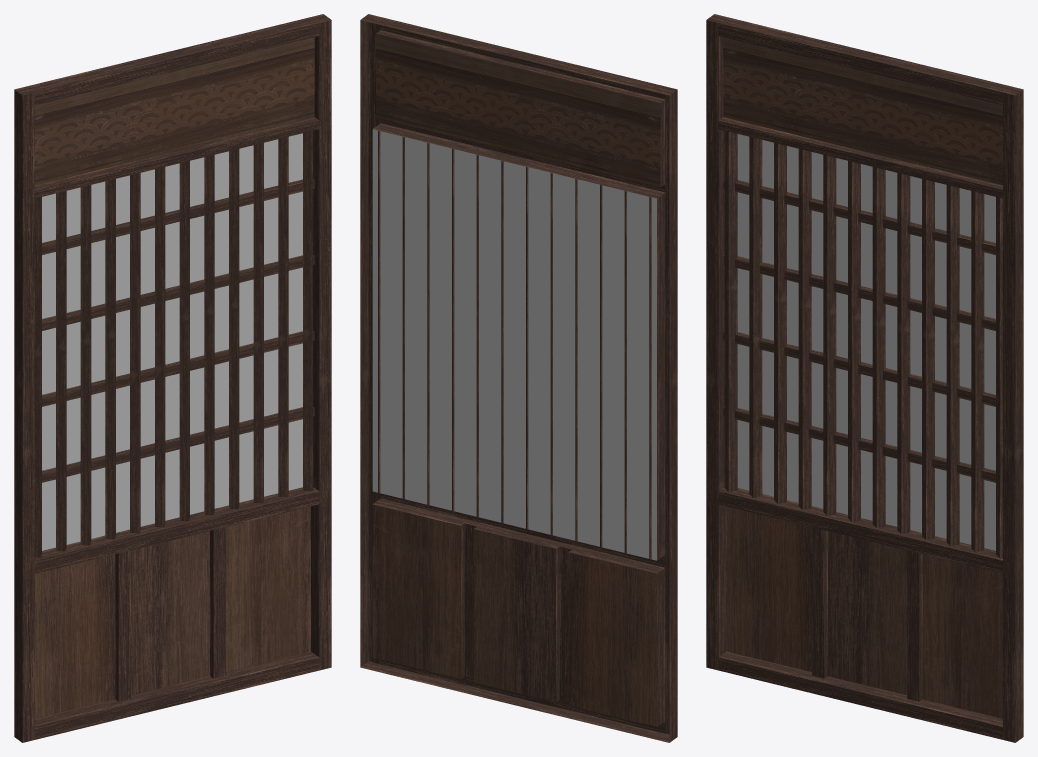
The model's file is Wall_D.fbx.
3 views of the same model, side by side, from view 1: azimuth 30°, elevation 25°; view 2: azimuth 150°, elevation 25°; view 3: azimuth 330°, elevation 25° (orthographic).
Visible parts, largest first — view 1: Wall_D; view 2: Wall_D; view 3: Wall_D.
Boxes of the visible parts, bbox=[...] form: Wall_D: bbox=[14, 14, 331, 742]; Wall_D: bbox=[360, 14, 677, 742]; Wall_D: bbox=[706, 14, 1023, 742].
Bounding box in the file's own units: 150 × 300 × 7.51.
